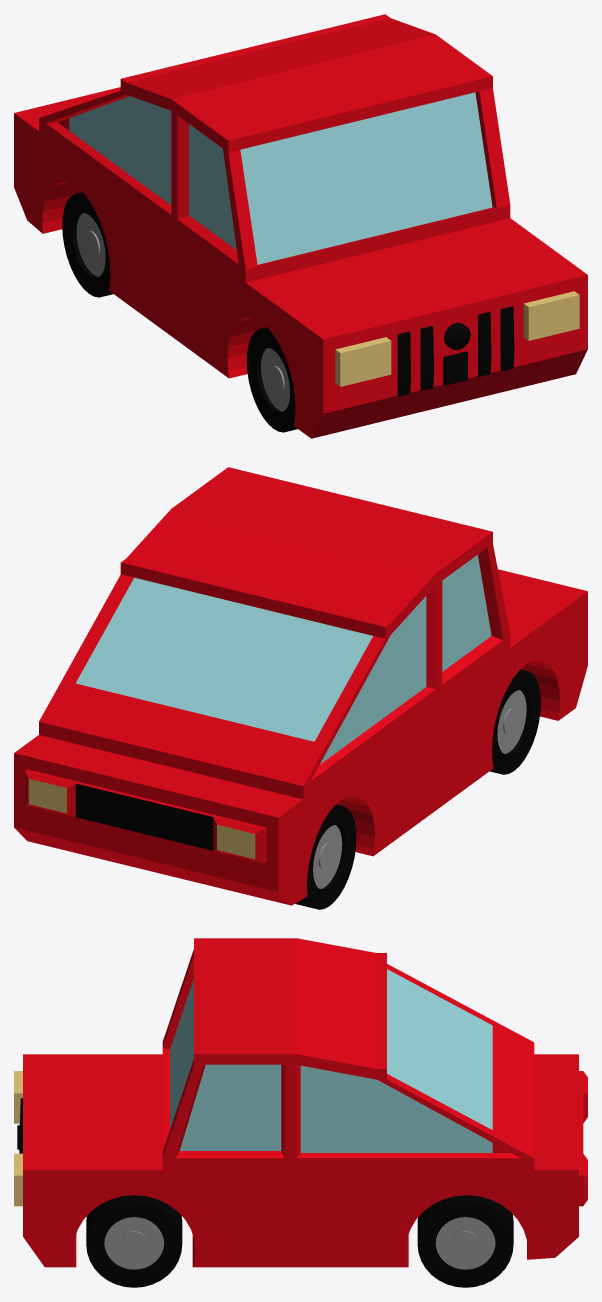
Rendered from car.fbx.
3 views of the same model, one above another, from view 1: azimuth 30°, elevation 25°; view 2: azimuth 150°, elevation 25°; view 3: azimuth 270°, elevation 25° (orthographic). The views are drawn at different scales.
Parts seen in each view (by area): view 1: Car, Wheel.002, Wheel.003; view 2: Car, Wheel.003, Wheel.002; view 3: Car, Wheel, Wheel.001.
Part boxes in pixels (x1,y1,x2,y2): Car: (14, 14, 587, 438); Wheel.002: (246, 327, 297, 432); Wheel.003: (62, 192, 112, 297); Car: (14, 467, 587, 905); Wheel.003: (295, 804, 356, 909); Wheel.002: (490, 669, 540, 774); Car: (14, 938, 587, 1267); Wheel: (86, 1195, 182, 1287); Wheel.001: (417, 1195, 513, 1287).
Size of the model in its own units: 2.14 by 2.06 by 4.48.
